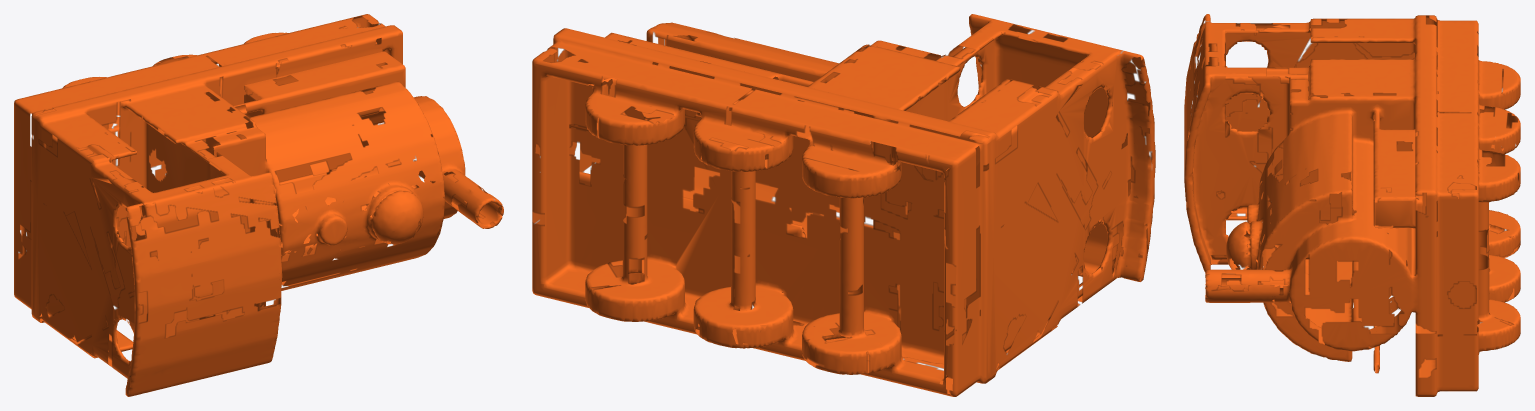
File: train_metal.gltf
The picture shows the model from 3 angles, left to right: view 1: azimuth 30°, elevation 25°; view 2: azimuth 150°, elevation 25°; view 3: azimuth 270°, elevation 25°; orthographic projection. The views are drawn at different scales.
Parts seen in each view (by area): view 1: 1; view 2: 1; view 3: 1.
Boxes of the visible parts, x1,y1,x2,y2 form: 1: [14, 14, 503, 396]; 1: [532, 14, 1155, 396]; 1: [1184, 14, 1520, 396].
Bounding box in the file's own units: 10.46 × 5.38 × 7.96.
1 material, 1 textured.
